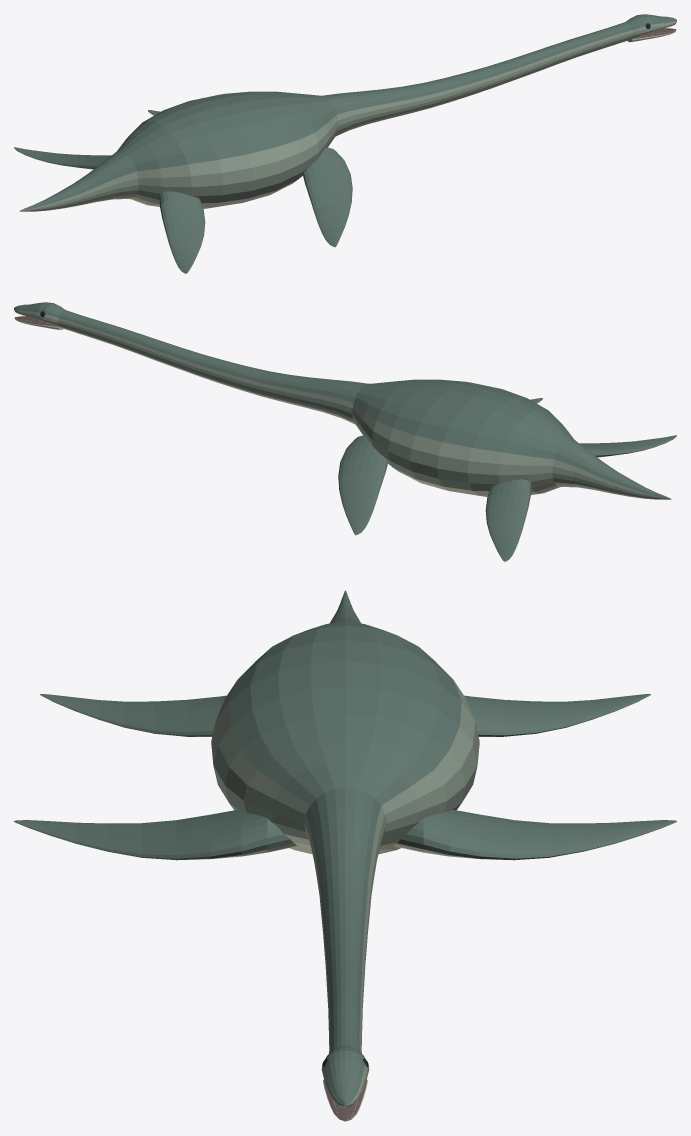
3 views of the same model, one above another, from view 1: azimuth 30°, elevation 25°; view 2: azimuth 150°, elevation 25°; view 3: azimuth 270°, elevation 25° (orthographic). The views are drawn at different scales.
Parts seen in each view (by area): view 1: Continuous_short_tail_broad_trunk_long_neck_small_upper_skul, Substantial_foreflipper_near, Substantial_hindflipper_near, Substantial_hindflipper_far; view 2: Continuous_short_tail_broad_trunk_long_neck_small_upper_skul, Substantial_foreflipper_far, Substantial_hindflipper_far, Substantial_hindflipper_near; view 3: Continuous_short_tail_broad_trunk_long_neck_small_upper_skul, Substantial_foreflipper_far, Substantial_foreflipper_near, Substantial_hindflipper_far, Substantial_hindflipper_near.
Part boxes in pixels (x1,y1,x2,y2): Continuous_short_tail_broad_trunk_long_neck_small_upper_skul: (19, 14, 676, 211); Substantial_foreflipper_near: (302, 147, 352, 247); Substantial_hindflipper_near: (159, 191, 205, 273); Substantial_hindflipper_far: (14, 147, 111, 169); Continuous_short_tail_broad_trunk_long_neck_small_upper_skul: (14, 302, 671, 499); Substantial_foreflipper_far: (338, 435, 388, 535); Substantial_hindflipper_far: (485, 479, 531, 561); Substantial_hindflipper_near: (579, 435, 676, 457); Continuous_short_tail_broad_trunk_long_neck_small_upper_skul: (211, 590, 479, 1107); Substantial_foreflipper_far: (394, 810, 676, 860); Substantial_foreflipper_near: (14, 810, 296, 860); Substantial_hindflipper_far: (464, 694, 650, 736); Substantial_hindflipper_near: (40, 694, 226, 736).
Size of the model in its own units: 3.1 by 0.4 by 1.53.
